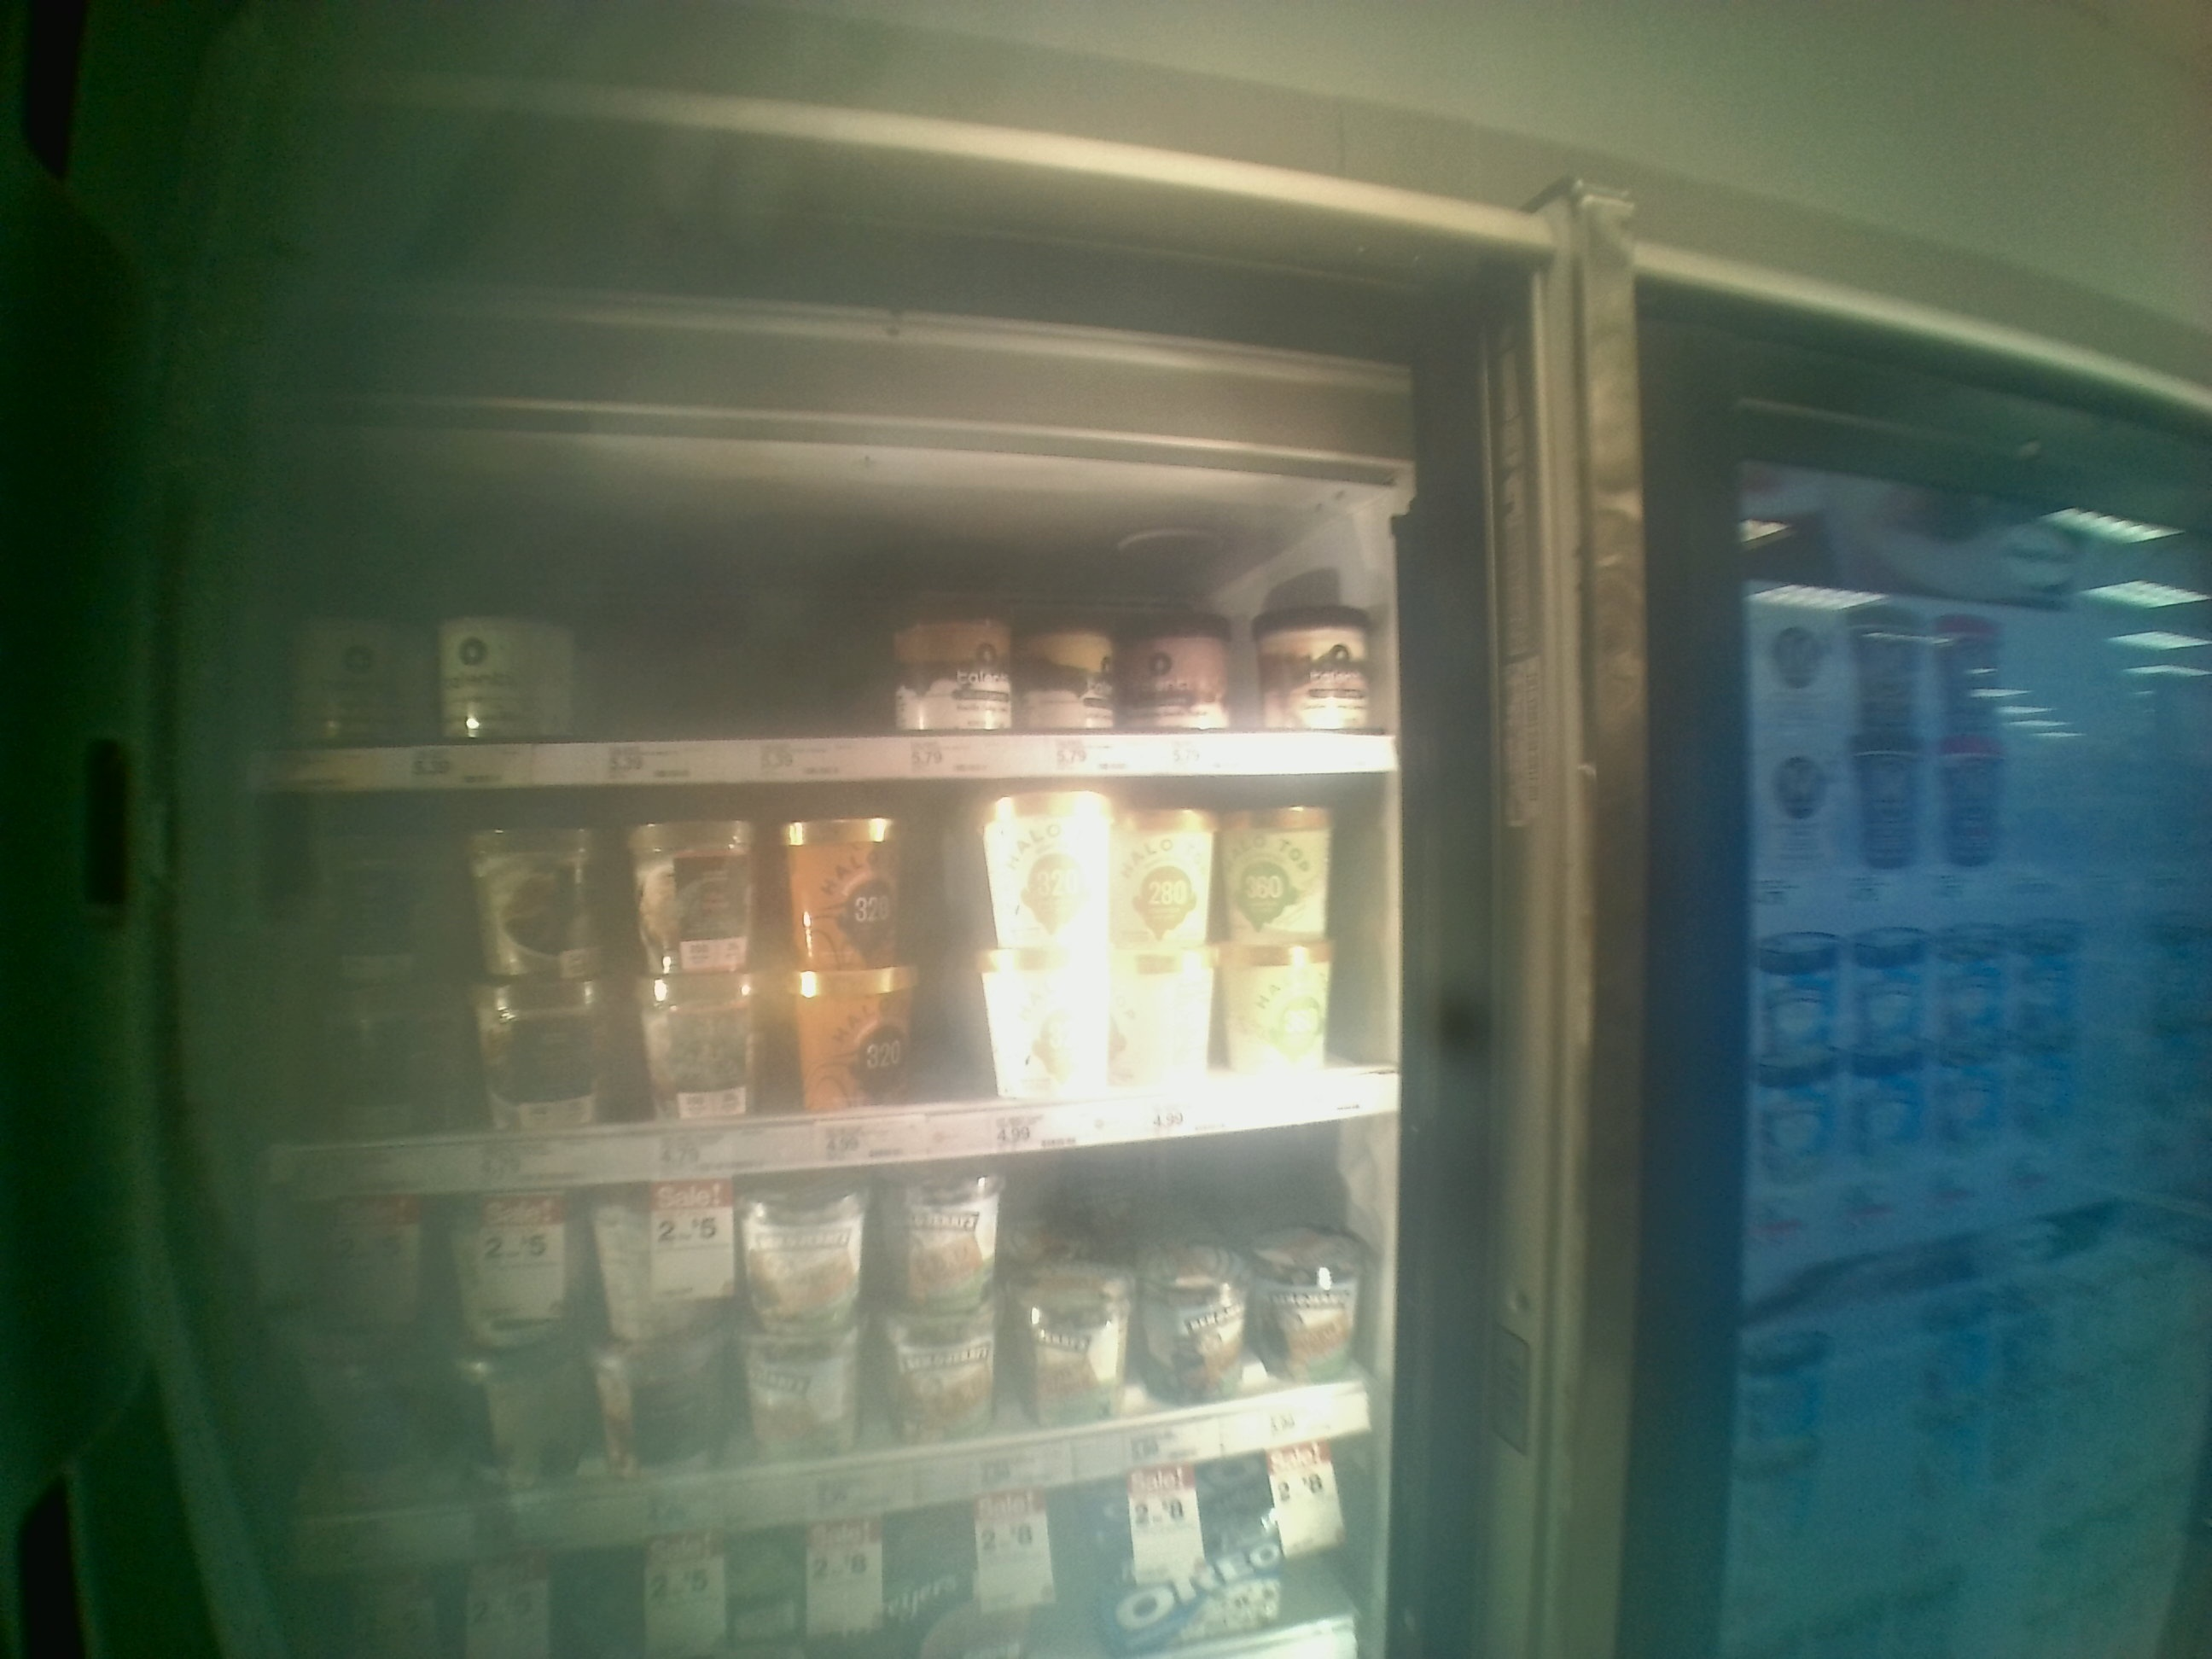shelf: (209, 788, 1413, 1201), (209, 455, 1400, 788)
